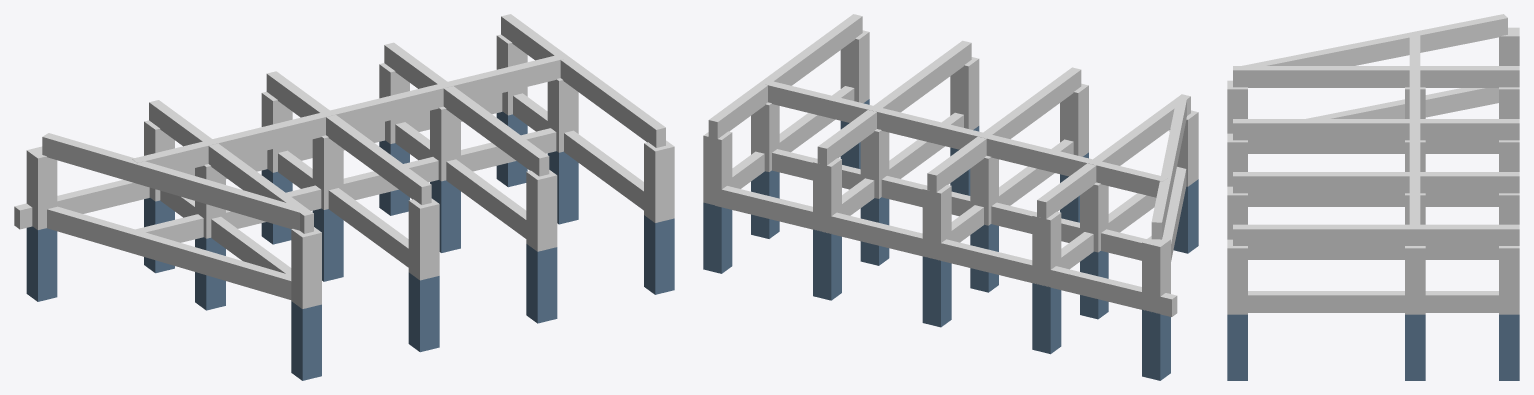
File: trabes_columnas.glb
3 views of the same model, side by side, from view 1: azimuth 30°, elevation 25°; view 2: azimuth 150°, elevation 25°; view 3: azimuth 270°, elevation 25° (orthographic). The views are drawn at different scales.
Parts seen in each view (by area): view 1: Cube.063, Cube.008, Cube.009, Cube.061, Plane.014, Plane.013, Plane.012, Plane.015, Cube.010, Cube.007, Cube.003, Cube.004 (+14 smaller); view 2: Cube.010, Cube.063, Cube.061, Cube.007, Plane.016, Plane.005, Cube.004, Cube.003, Plane.004, Plane.002, Plane.003, Cube.005 (+14 smaller); view 3: Cube.007, Cube.003, Cube.004, Cube.005, Cube.006, Cube.008, Cube, Cube.001, Cube.002, Plane.012, Plane.002, Plane.006 (+12 smaller).
Boxes of the visible parts, x1,y1,x2,y2 form: Cube.063: [132, 55, 563, 171]; Cube.008: [42, 133, 299, 230]; Cube.009: [47, 206, 291, 299]; Cube.061: [135, 128, 556, 242]; Plane.014: [408, 198, 439, 352]; Plane.013: [526, 170, 557, 323]; Plane.012: [644, 140, 674, 294]; Plane.015: [291, 227, 321, 380]; Cube.010: [14, 93, 502, 229]; Cube.007: [501, 14, 665, 147]; Cube.003: [384, 42, 549, 176]; Cube.004: [266, 71, 431, 204]; Cube.010: [715, 186, 1177, 316]; Cube.063: [765, 80, 1167, 197]; Cube.061: [772, 149, 1146, 260]; Cube.007: [708, 14, 862, 138]; Plane.016: [1142, 236, 1170, 380]; Plane.005: [1032, 211, 1061, 354]; Cube.004: [927, 67, 1081, 192]; Cube.003: [817, 40, 971, 165]; Plane.004: [922, 185, 951, 327]; Plane.002: [703, 131, 732, 273]; Plane.003: [813, 158, 841, 300]; Cube.005: [1037, 94, 1190, 218]; Cube.007: [1233, 224, 1519, 246]; Cube.003: [1233, 172, 1519, 193]; Cube.004: [1233, 119, 1519, 140]; Cube.005: [1233, 66, 1519, 87]; Cube.006: [1248, 291, 1498, 312]; Cube.008: [1239, 14, 1507, 68]; Cube: [1248, 246, 1498, 259]; Cube.001: [1248, 194, 1498, 206]; Cube.002: [1248, 141, 1498, 153]; Plane.012: [1227, 239, 1247, 380]; Plane.002: [1499, 246, 1519, 380]; Plane.006: [1405, 246, 1425, 380].
Bounding box in the file's own units: 25.63 × 7.89 × 14.
